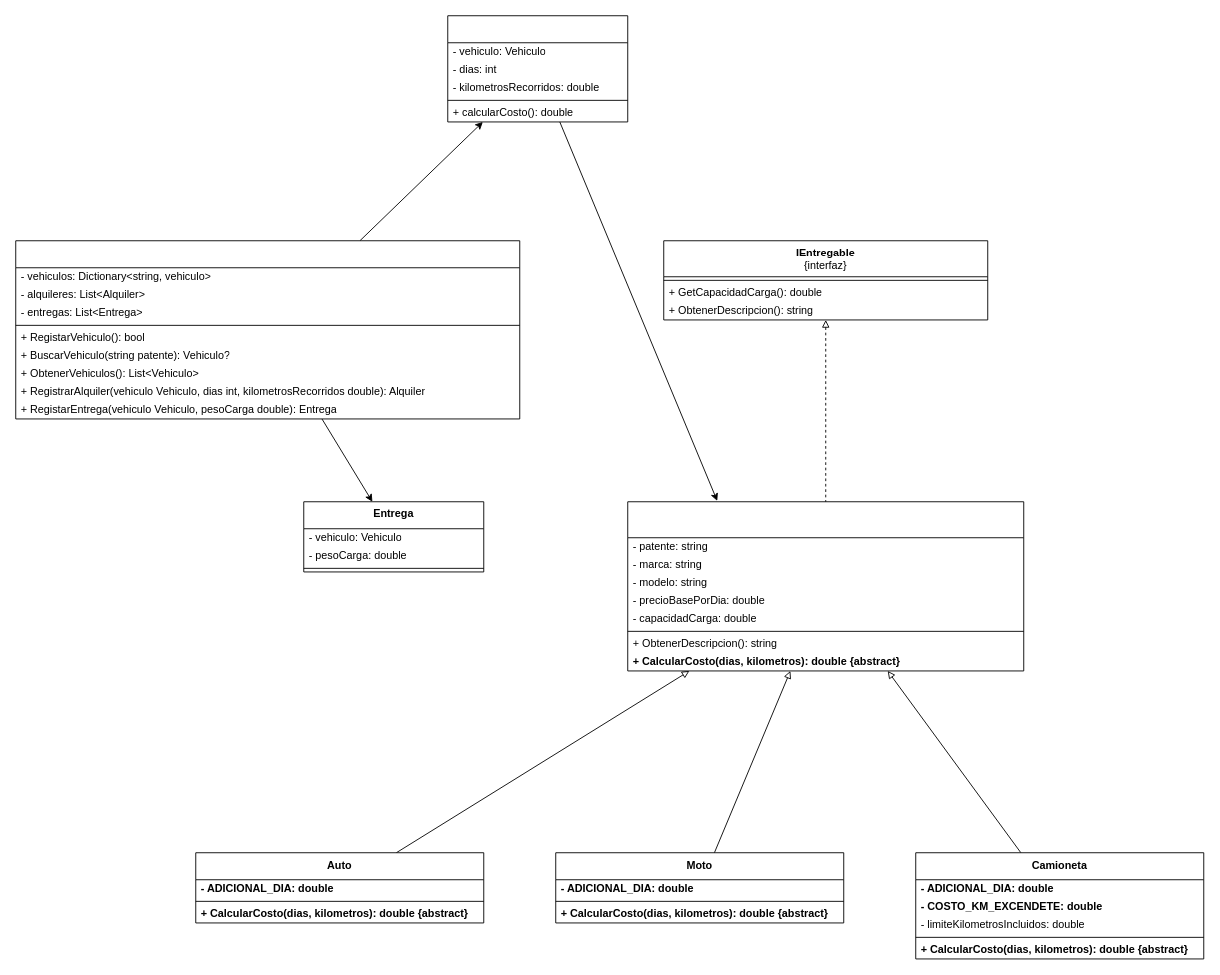
This 1220x975 diagram has some shape labels left out. Here are the shapes that lost their labels. From the top down, the box of each, then its label:
(447, 15, 628, 122): Alquiler
(15, 240, 520, 419): Empresa
(627, 501, 1024, 671): Vehiculo {abstract}
